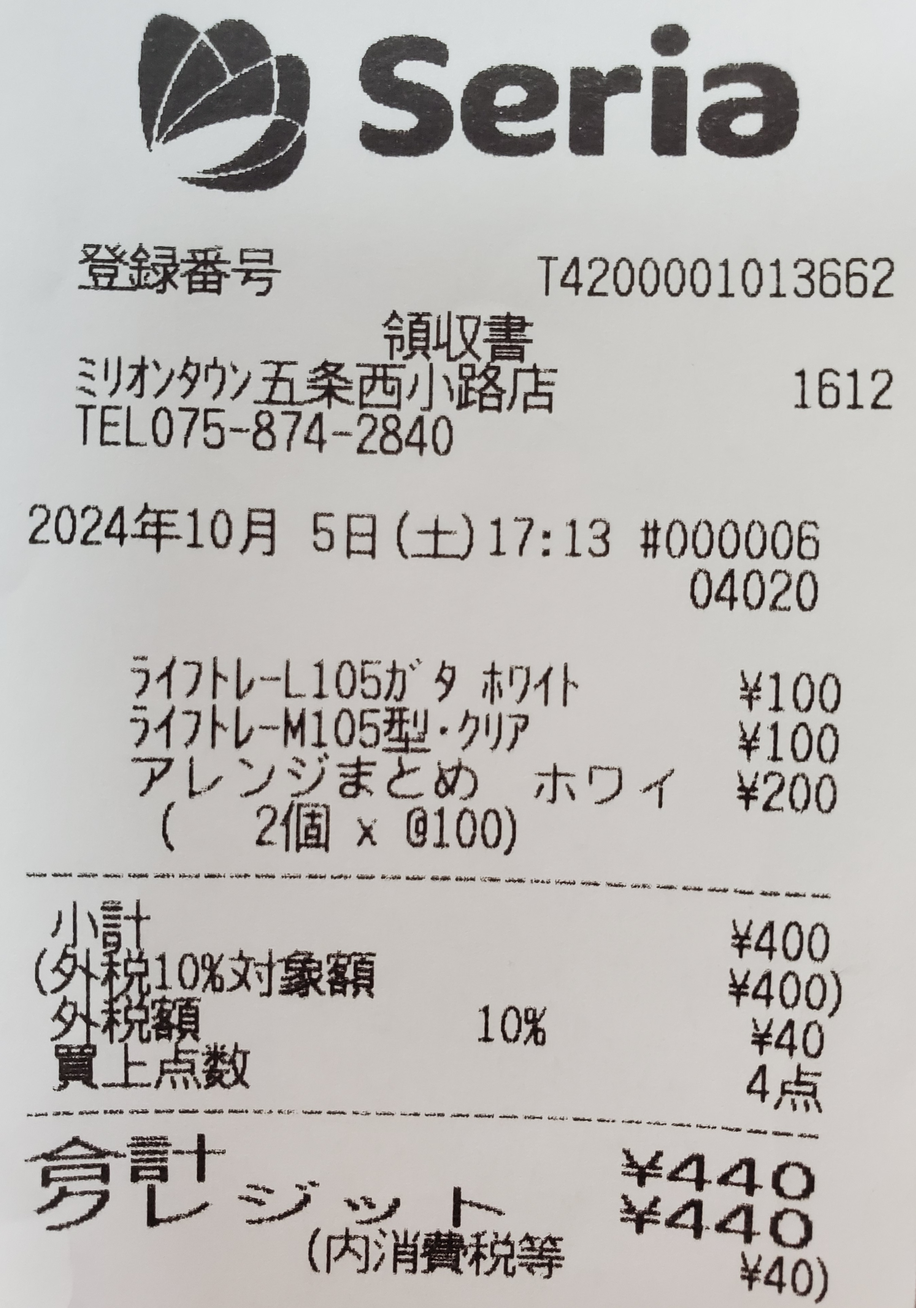Date: (21, 488, 385, 565)
Shopname: (320, 2, 859, 171)
Telnum: (147, 403, 462, 460)
Totalpay: (25, 1135, 836, 1198)
